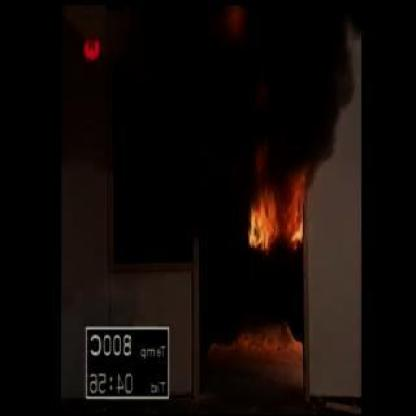Fire: (248, 166, 312, 252)
